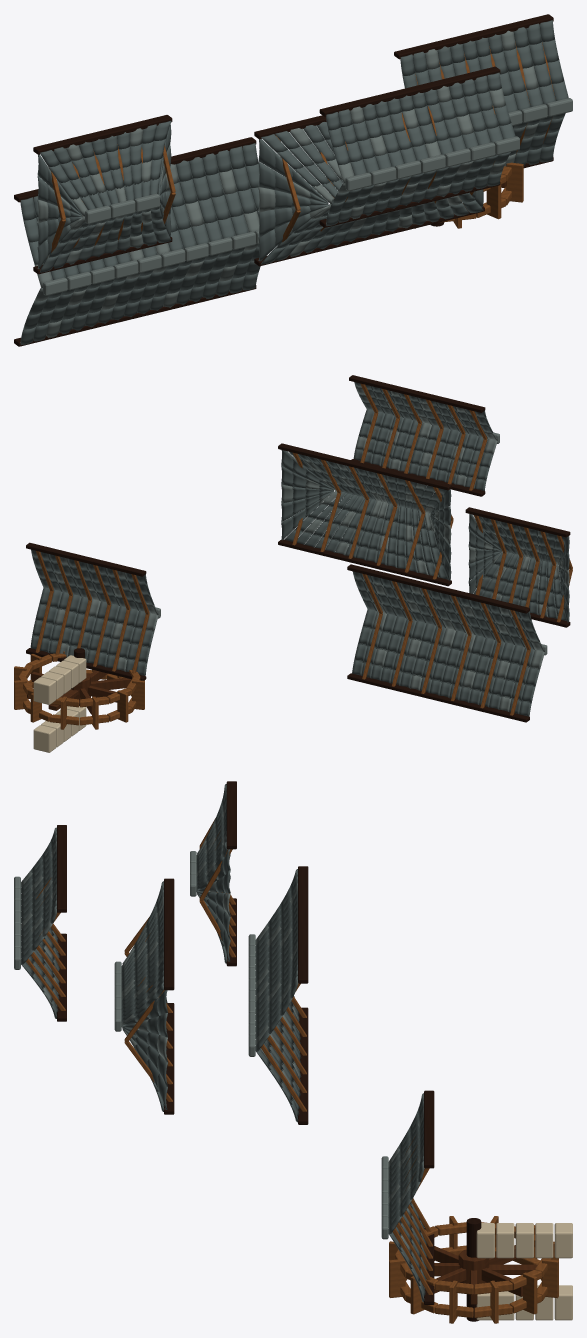
The picture shows the model from 3 angles, top to bottom: view 1: azimuth 30°, elevation 25°; view 2: azimuth 150°, elevation 25°; view 3: azimuth 270°, elevation 25°; orthographic projection. The views are drawn at different scales.
Visible parts, largest first — view 1: 临水町屋 · 后瓦面 2, 山顶书亭 · 后瓦面 2, 山顶书亭 · 后瓦面 1, 右侧水磨坊 · 后瓦面 2, 临水町屋 · 前瓦面 1, 临水町屋 · 前瓦面 2, 中庭茶屋 · 左歇山瓦, 左侧望溪屋 · 后瓦面 2, 左侧望溪屋 · 后瓦面 1, 中庭茶屋 · 后瓦面 1, 山顶书亭 · 前瓦面 1, 山顶书亭 · 前瓦面 2 (+26 smaller); view 2: 临水町屋 · 前瓦面 1, 临水町屋 · 前瓦面 2, 中庭茶屋 · 前瓦面 1, 中庭茶屋 · 前瓦面 2, 右侧水磨坊 · 前瓦面 1, 山顶书亭 · 前瓦面 1, 山顶书亭 · 前瓦面 2, 右侧水磨坊 · 前瓦面 2, 临水町屋 · 后瓦面 1, 临水町屋 · 后瓦面 2, 中庭茶屋 · 右歇山瓦, 左侧望溪屋 · 前瓦面 1 (+36 smaller); view 3: 水轮后轴座, 临水町屋 · 后瓦面 2, 临水町屋 · 后瓦面 1, 中庭茶屋 · 右歇山瓦, 中庭茶屋 · 后瓦面 1, 水轮前轴座, 中庭茶屋 · 后瓦面 2, 山顶书亭 · 后瓦面 2, 山顶书亭 · 后瓦面 1, 左侧望溪屋 · 右歇山瓦, 右侧水磨坊 · 后瓦面 2, 临水町屋 · 前瓦面 2 (+17 smaller).
Boxes of the visible parts, bbox=[...] form: 临水町屋 · 后瓦面 2: bbox=[155, 143, 259, 255]; 山顶书亭 · 后瓦面 2: bbox=[412, 72, 515, 157]; 山顶书亭 · 后瓦面 1: bbox=[326, 95, 428, 183]; 右侧水磨坊 · 后瓦面 2: bbox=[475, 20, 568, 112]; 临水町屋 · 前瓦面 1: bbox=[20, 270, 153, 344]; 临水町屋 · 前瓦面 2: bbox=[137, 243, 260, 313]; 中庭茶屋 · 左歇山瓦: bbox=[258, 139, 328, 261]; 左侧望溪屋 · 后瓦面 2: bbox=[104, 120, 171, 202]; 左侧望溪屋 · 后瓦面 1: bbox=[40, 139, 118, 216]; 中庭茶屋 · 后瓦面 1: bbox=[261, 122, 343, 204]; 山顶书亭 · 前瓦面 1: bbox=[326, 172, 423, 225]; 山顶书亭 · 前瓦面 2: bbox=[412, 152, 510, 202]; 临水町屋 · 前瓦面 1: bbox=[439, 631, 544, 716]; 临水町屋 · 前瓦面 2: bbox=[352, 609, 455, 695]; 中庭茶屋 · 前瓦面 1: bbox=[366, 502, 447, 579]; 中庭茶屋 · 前瓦面 2: bbox=[284, 490, 382, 560]; 右侧水磨坊 · 前瓦面 1: bbox=[87, 601, 158, 675]; 山顶书亭 · 前瓦面 1: bbox=[418, 425, 497, 490]; 山顶书亭 · 前瓦面 2: bbox=[353, 409, 431, 475]; 右侧水磨坊 · 前瓦面 2: bbox=[30, 587, 100, 662]; 临水町屋 · 后瓦面 1: bbox=[440, 592, 544, 652]; 临水町屋 · 后瓦面 2: bbox=[352, 571, 455, 630]; 中庭茶屋 · 右歇山瓦: bbox=[281, 450, 334, 540]; 左侧望溪屋 · 前瓦面 1: bbox=[519, 558, 569, 621]; 水轮后轴座: bbox=[476, 1223, 572, 1258]; 临水町屋 · 后瓦面 2: bbox=[255, 929, 298, 1051]; 临水町屋 · 后瓦面 1: bbox=[255, 869, 297, 994]; 中庭茶屋 · 右歇山瓦: bbox=[122, 990, 167, 1109]; 中庭茶屋 · 后瓦面 1: bbox=[121, 881, 163, 995]; 水轮前轴座: bbox=[476, 1285, 572, 1320]; 中庭茶屋 · 后瓦面 2: bbox=[121, 939, 163, 1026]; 山顶书亭 · 后瓦面 2: bbox=[21, 872, 56, 964]; 山顶书亭 · 后瓦面 1: bbox=[21, 827, 56, 922]; 左侧望溪屋 · 右歇山瓦: bbox=[197, 849, 230, 961]; 右侧水磨坊 · 后瓦面 2: bbox=[388, 1134, 424, 1233]; 临水町屋 · 前瓦面 2: bbox=[255, 1001, 301, 1122].
Bounding box in the file's own units: 13 × 6.98 × 10.43.
Materials: 6 (3 with a texture image).
